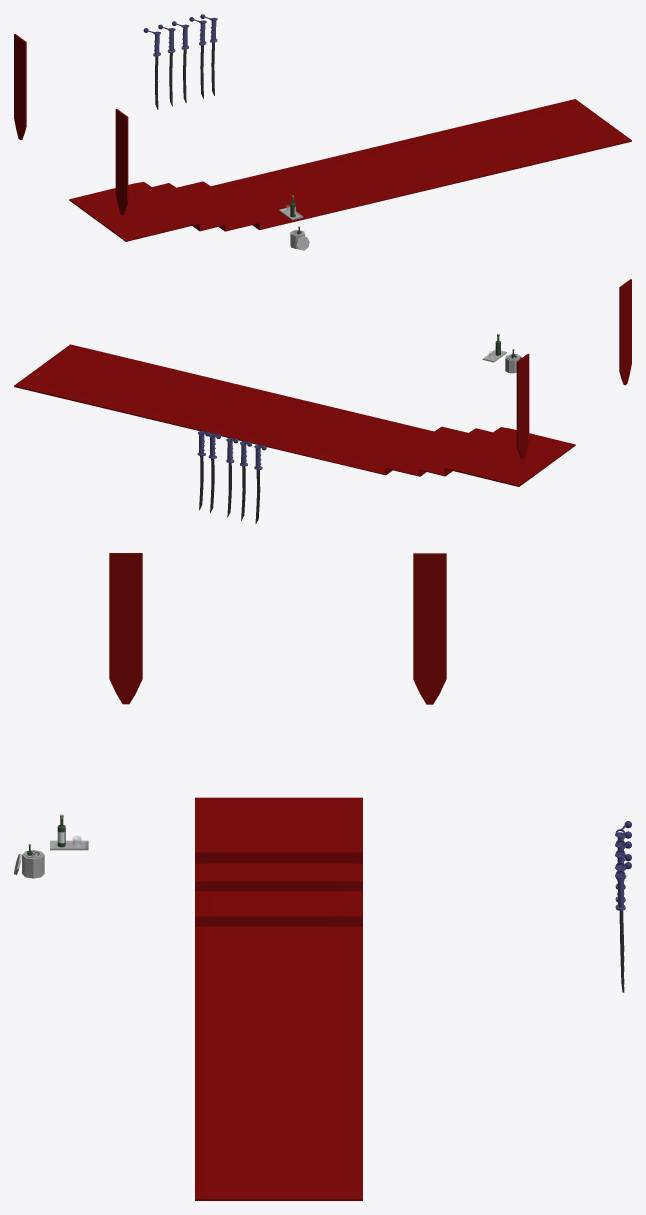
Rendered from itemss.fbx.
3 views of the same model, one above another, from view 1: azimuth 30°, elevation 25°; view 2: azimuth 150°, elevation 25°; view 3: azimuth 270°, elevation 25° (orthographic). The views are drawn at different scales.
Parts seen in each view (by area): view 1: pPlane1, polySurface246, polySurface247, pasted__polySurface1336, pasted__polySurface1332, pasted__polySurface1333, pasted__polySurface1335, pasted__polySurface1334, pasted__polySurface1301; view 2: pPlane1, polySurface247, polySurface246, pasted__polySurface1335, pasted__polySurface1336, pasted__polySurface1332, pasted__polySurface1334, pasted__polySurface1333; view 3: pPlane1, polySurface247, polySurface246.
Boxes of the visible parts, x1,y1,x2,y2 form: pPlane1: (69,99,631,241); polySurface246: (115,109,128,215); polySurface247: (14,34,26,139); pasted__polySurface1336: (158,24,175,106); pasted__polySurface1332: (200,14,217,95); pasted__polySurface1333: (189,17,206,98); pasted__polySurface1335: (172,21,189,102); pasted__polySurface1334: (143,28,160,109); pasted__polySurface1301: (290,226,309,250); pPlane1: (14,344,575,486); polySurface247: (516,353,529,459); polySurface246: (619,279,631,385); pasted__polySurface1335: (226,438,238,517); pasted__polySurface1336: (240,441,251,520); pasted__polySurface1332: (197,431,209,510); pasted__polySurface1334: (254,444,266,523); pasted__polySurface1333: (208,433,220,512); pPlane1: (195,797,362,1200); polySurface247: (413,553,446,704); polySurface246: (109,553,142,704).
Bounding box in the file's own units: 31.1 × 9.77 × 20.98.
